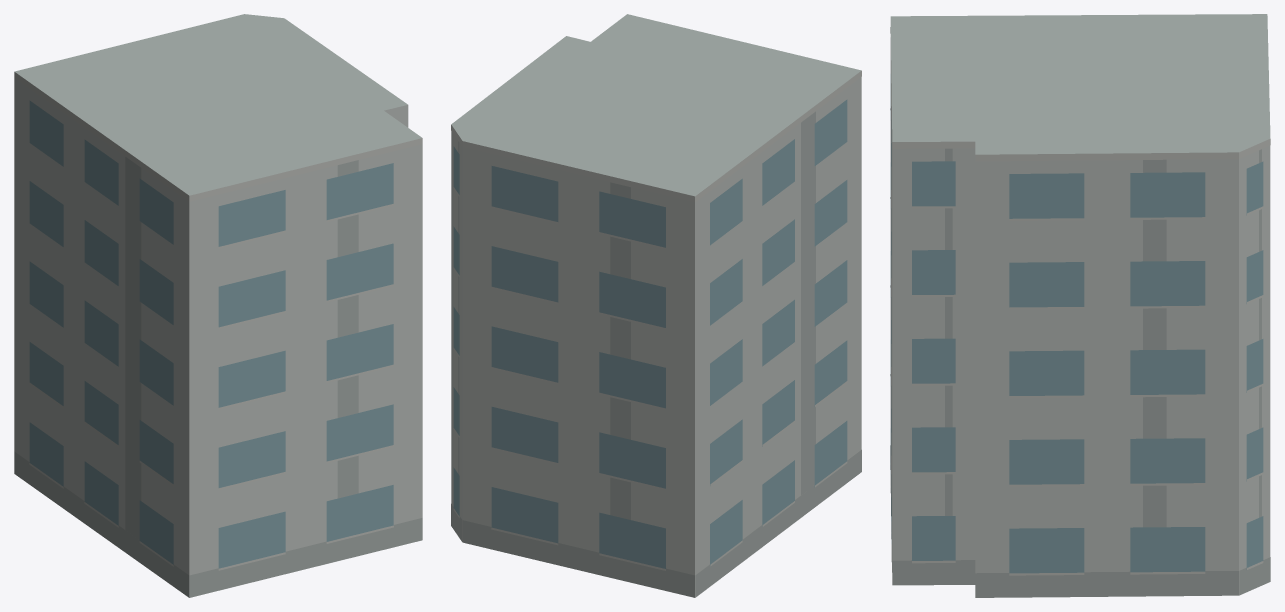
The model's file is survey-upis-32509592.glb.
3 views of the same model, side by side, from view 1: azimuth 30°, elevation 25°; view 2: azimuth 150°, elevation 25°; view 3: azimuth 270°, elevation 25° (orthographic). The views are drawn at different scales.
Parts seen in each view (by area): view 1: survey-upis-32509592.tmp; view 2: survey-upis-32509592.tmp; view 3: survey-upis-32509592.tmp.
Boxes of the visible parts, x1,y1,x2,y2 form: survey-upis-32509592.tmp: (14, 14, 422, 597); survey-upis-32509592.tmp: (451, 14, 861, 597); survey-upis-32509592.tmp: (890, 14, 1270, 597).
Bounding box in the file's own units: 10.83 × 15.9 × 12.37.
